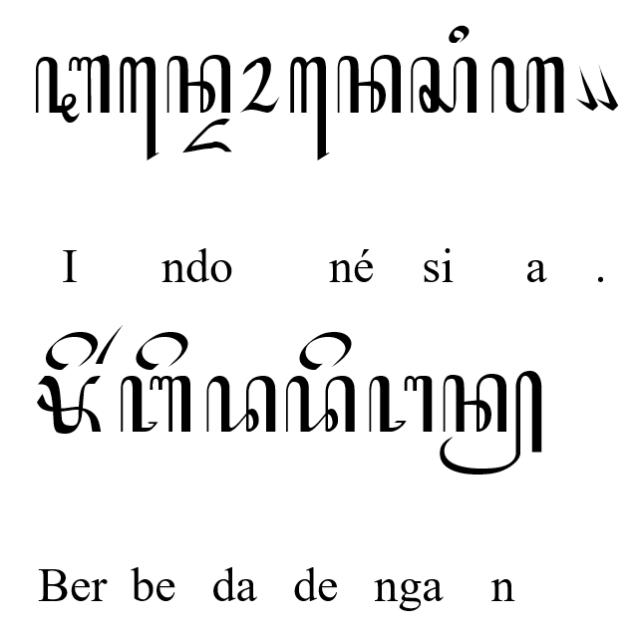-n: (437, 368, 542, 476)
B: (36, 375, 102, 433)
I: (34, 54, 110, 124)
_d: (180, 117, 231, 153)
_r1: (95, 324, 123, 364)
b: (118, 373, 194, 433)
d: (205, 375, 279, 433), (285, 375, 357, 433)
e: (134, 331, 190, 371), (296, 330, 352, 370), (45, 331, 97, 371)
e1: (288, 54, 330, 162), (118, 55, 160, 162)
h: (490, 56, 566, 114)
i: (448, 23, 471, 43)
kom: (594, 62, 620, 110), (574, 65, 598, 112)
n: (336, 54, 404, 114), (166, 54, 230, 114)
nga: (369, 375, 432, 433)
o: (238, 55, 280, 113)
s: (410, 54, 478, 114)
